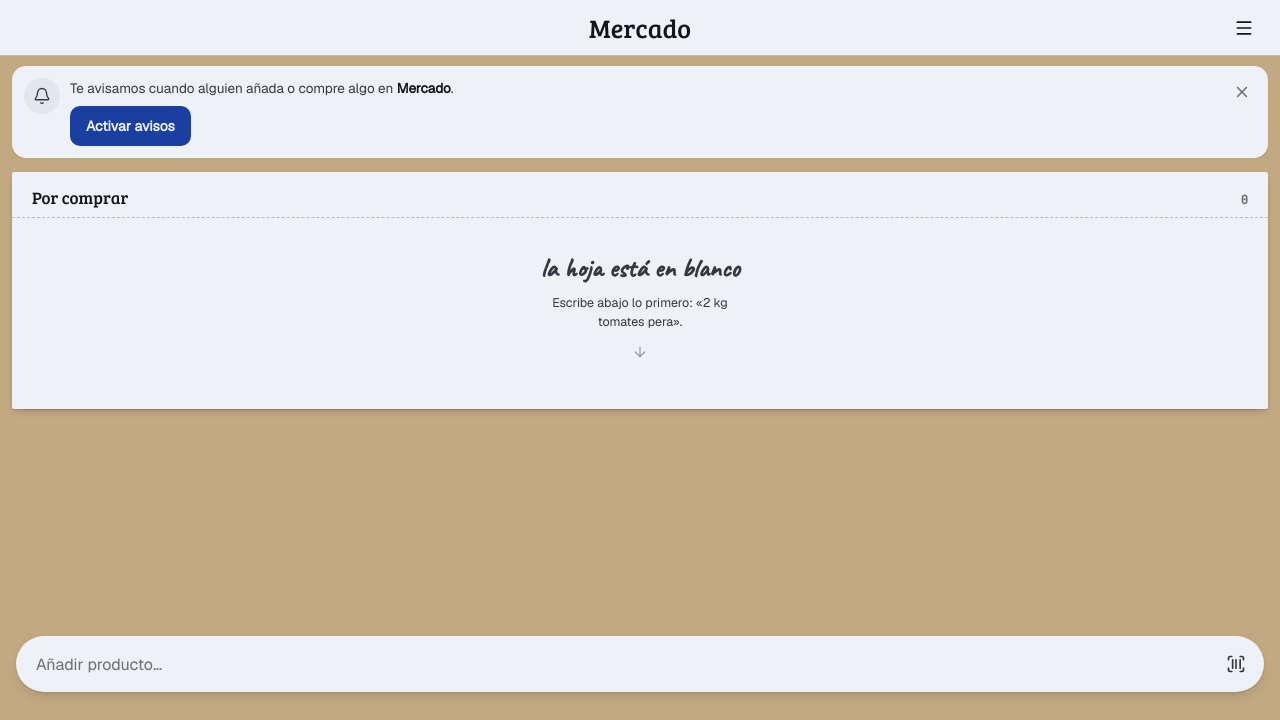
Test: notification priming card › retires the card once enabling succeeds
Click the button "Activar avisos" at (130, 126), box [70,106,191,146]
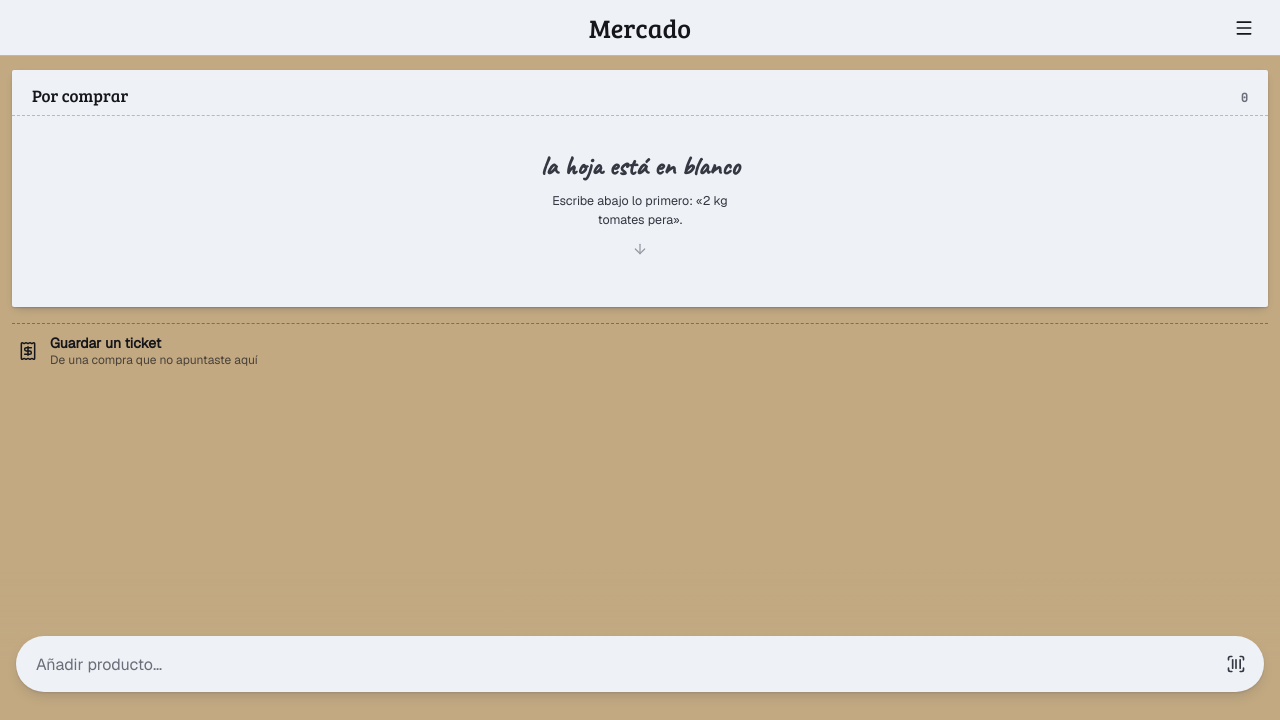
Check: the button "Activar avisos" is gone
